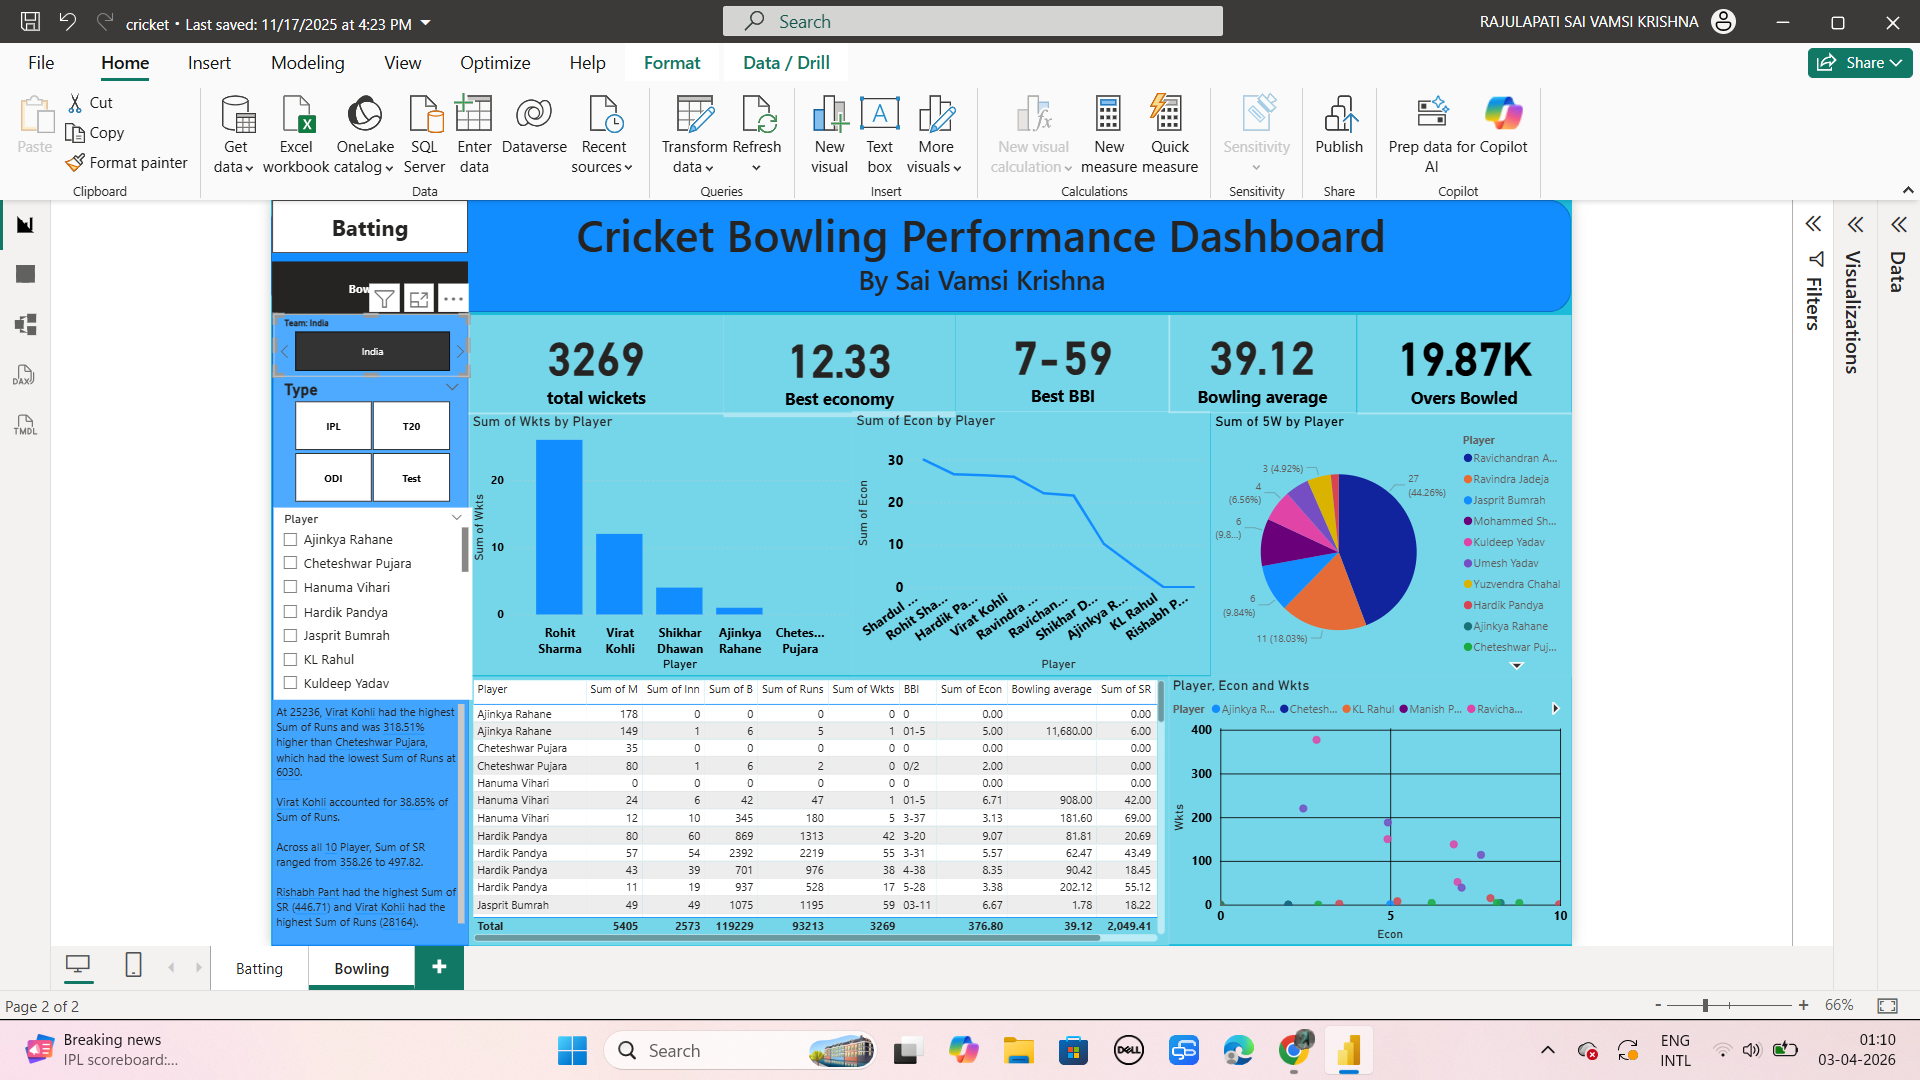

This screenshot's page, from the dashboard's own definition file:
{"tool":"powerbi","page":{"name":"Bowling","canvas":[1570,900],"ordinal":1},"visuals":[{"type":"shape","box":[0,0,1568.3,135],"z":0},{"type":"shape","box":[1.7,135,236.7,765],"z":1000},{"type":"card","fields":{"Values":["bowl.total wickets"]},"box":[238.3,138.3,308.3,120],"z":2000},{"type":"card","fields":{"Values":["bowl.Best BBI"]},"box":[826.7,138.3,258.3,116.7],"z":3000},{"type":"card","fields":{"Values":["bowl.Overs Bowled"]},"box":[1310,138.3,258.3,120],"z":4000},{"type":"card","fields":{"Values":["bat.Best economy"]},"box":[546.7,138.3,280,123.3],"z":5000},{"type":"card","fields":{"Values":["bowl.Bowling average"]},"box":[1083.3,138.3,226.7,118.3],"z":8000},{"type":"clusteredColumnChart","fields":{"Category":["bat.Player"],"Y":["Sum(bowl.Wkts)"]},"box":[238.3,256.7,463.3,316.7],"z":9000},{"type":"lineChart","fields":{"Category":["bat.Player"],"Y":["Sum(bowl.Econ)"]},"box":[701.7,255,431.7,318.3],"z":10000},{"type":"pieChart","fields":{"Y":["Sum(bowl.5W)"],"Category":["bowl.Player"]},"box":[1133.3,256.7,436.7,318.3],"z":11000},{"type":"scatterChart","fields":{"Series":["bat.Player"],"X":["bowl.Econ"],"Y":["bowl.Wkts"]},"box":[1083.3,575,486.7,323.3],"z":12000},{"type":"slicer","fields":{"Values":["bat.Player"]},"box":[3.3,371.7,240,231.7],"z":13000},{"type":"tableEx","fields":{"Values":["bat.Player","Sum(bowl.M)","Sum(bowl.Inn)","Sum(bowl.B)","Sum(bowl.Runs)","Sum(bowl.Wkts)","bowl.BBI","Sum(bowl.Econ)","bowl.Bowling average","Sum(bowl.SR)","Sum(bowl.5W)"]},"box":[238.3,575,845,325],"z":14000},{"type":"slicer","fields":{"Values":["bat.Team"]},"box":[3.3,136.7,236.7,76.7],"z":15000},{"type":"slicer","fields":{"Values":["bat.Type"]},"box":[3.3,213.3,236.7,158.3],"z":16000},{"type":"textbox","box":[1.7,603.3,236.7,295],"z":17000},{"type":"pageNavigator","box":[1.7,0,236.7,138.3],"z":17001},{"type":"textbox","box":[363.3,0,1076.7,85],"z":17002},{"type":"textbox","box":[348.3,70,1018.3,68.3],"z":17003}]}

Visuals, with their boxes on the page's 1570x900 design canvas (x1, y1, x2, y2). These are canvas units, not pixel positions in the 1920x1080 screenshot, which may show the page scaled, cropped or inside an application window:
shape: locate(0, 0, 1568, 135)
shape: locate(2, 135, 238, 900)
card - bowl.total wickets: locate(238, 138, 547, 258)
card - bowl.Best BBI: locate(827, 138, 1085, 255)
card - bowl.Overs Bowled: locate(1310, 138, 1568, 258)
card - bat.Best economy: locate(547, 138, 827, 262)
card - bowl.Bowling average: locate(1083, 138, 1310, 257)
clusteredColumnChart - bat.Player x Sum(bowl.Wkts): locate(238, 257, 702, 573)
lineChart - bat.Player x Sum(bowl.Econ): locate(702, 255, 1133, 573)
pieChart - Sum(bowl.5W) x bowl.Player: locate(1133, 257, 1570, 575)
scatterChart - bat.Player x bowl.Econ: locate(1083, 575, 1570, 898)
slicer - bat.Player: locate(3, 372, 243, 603)
tableEx - bat.Player x Sum(bowl.M): locate(238, 575, 1083, 900)
slicer - bat.Team: locate(3, 137, 240, 213)
slicer - bat.Type: locate(3, 213, 240, 372)
textbox: locate(2, 603, 238, 898)
pageNavigator: locate(2, 0, 238, 138)
textbox: locate(363, 0, 1440, 85)
textbox: locate(348, 70, 1367, 138)
